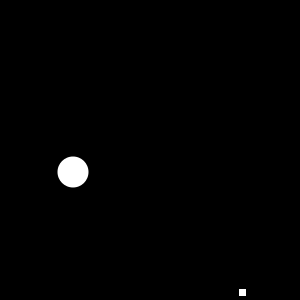circle: (239, 289, 246, 296)
rectangle: (58, 157, 89, 188)
